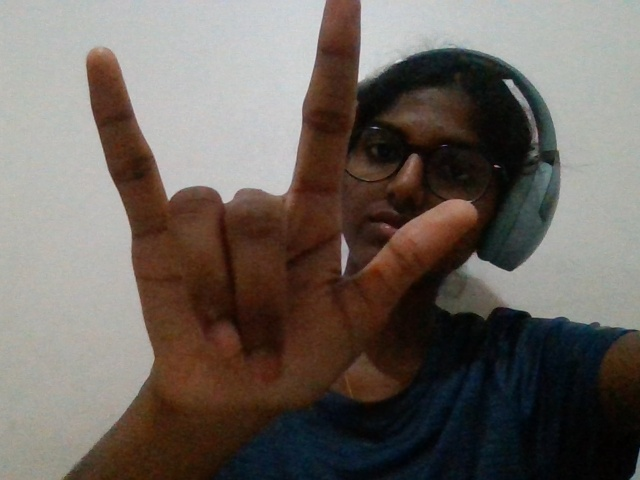I Love You: (50, 3, 504, 468)
